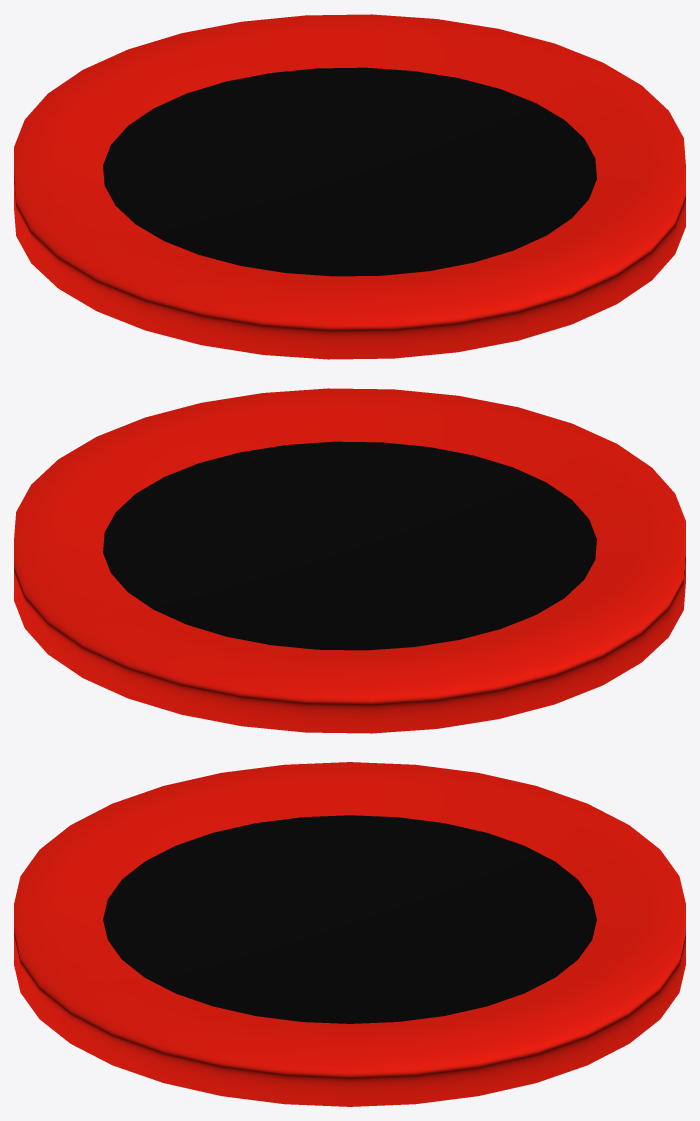
File: Trampoline.fbx
3 renders of one model, top to bottom at view 1: azimuth 30°, elevation 25°; view 2: azimuth 150°, elevation 25°; view 3: azimuth 270°, elevation 25°, orthographic.
Parts seen in each view (by area): view 1: Cylinder; view 2: Cylinder; view 3: Cylinder.
Boxes of the visible parts, <box> form: Cylinder: <box>14,14,685,359</box>; Cylinder: <box>14,388,685,733</box>; Cylinder: <box>14,762,685,1106</box>.
Bounding box in the file's own units: 2 × 2 × 0.2.
